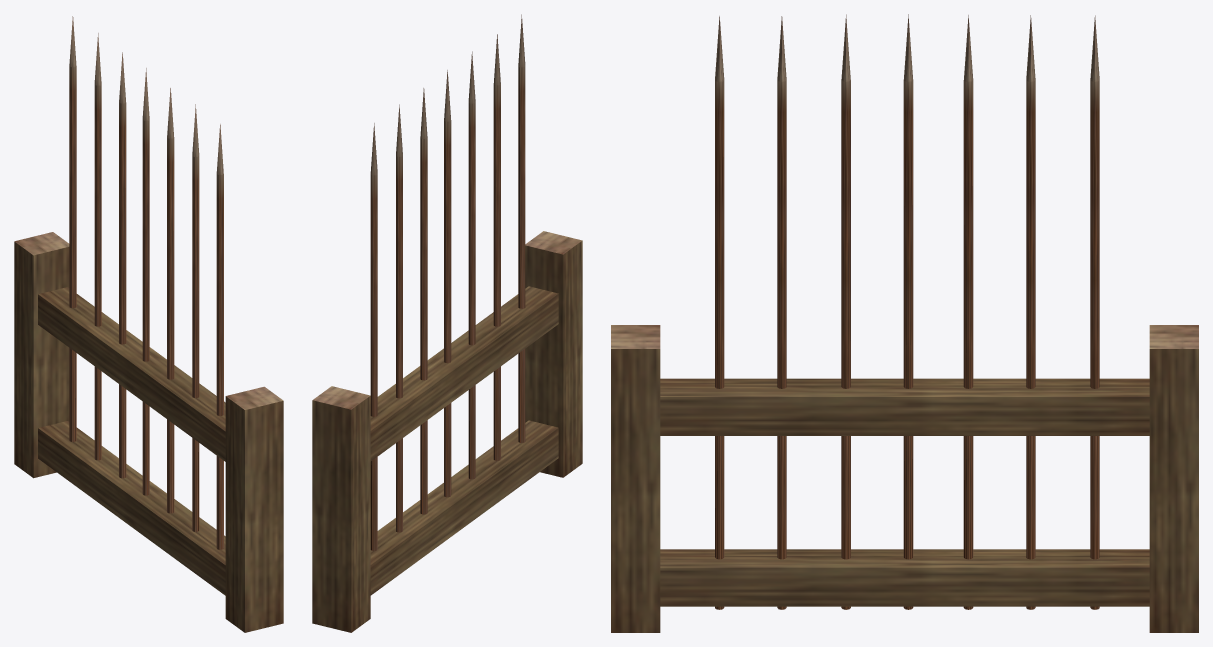
File: stand.fbx
3 views of the same model, side by side, from view 1: azimuth 30°, elevation 25°; view 2: azimuth 150°, elevation 25°; view 3: azimuth 270°, elevation 25° (orthographic). The views are drawn at different scales.
Visible parts, largest first — view 1: stand_stand; view 2: stand_stand; view 3: stand_stand.
Boxes of the visible parts, box(x1,y1,x2,y2) form: stand_stand: box(14, 16, 283, 632); stand_stand: box(312, 14, 582, 632); stand_stand: box(611, 14, 1198, 632).
Size of the model in its own units: 71.68 by 839 by 737.
